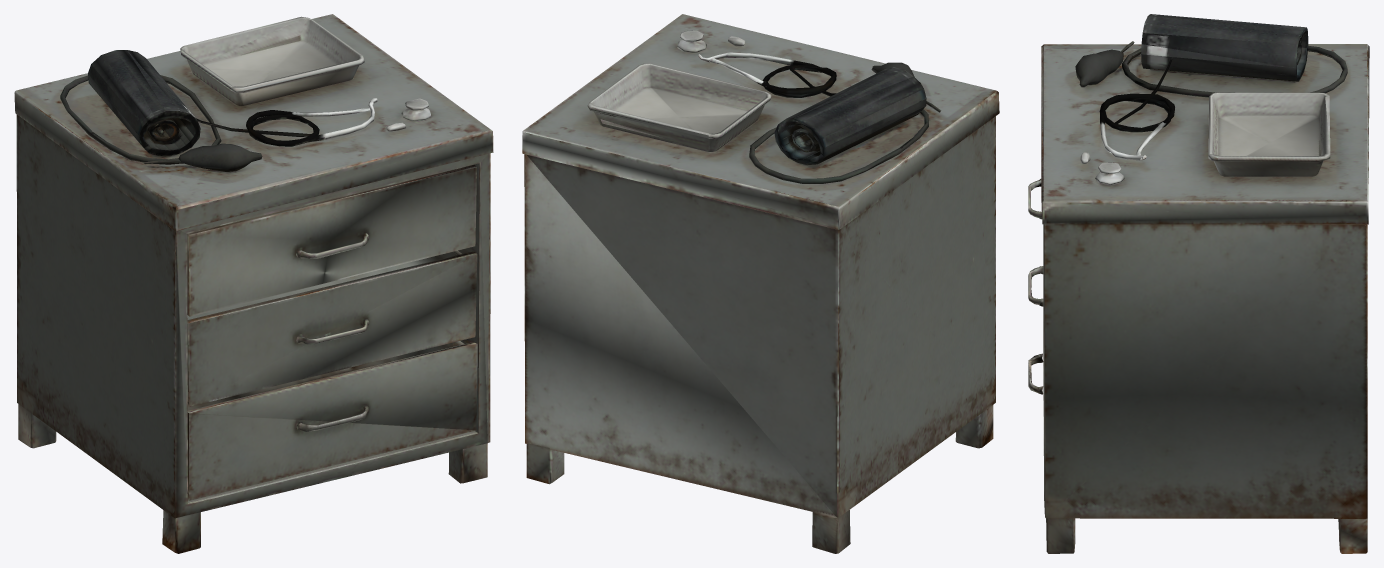
Rendered from MedCart.fbx.
The picture shows the model from 3 angles, left to right: view 1: azimuth 30°, elevation 25°; view 2: azimuth 150°, elevation 25°; view 3: azimuth 270°, elevation 25°; orthographic projection.
Visible parts, largest first — view 1: mesh_node; view 2: mesh_node; view 3: mesh_node.
Boxes of the visible parts, box(x1,y1,x2,y2) form: mesh_node: box(14, 14, 493, 553); mesh_node: box(522, 14, 999, 553); mesh_node: box(1028, 14, 1369, 553).
Size of the model in its own units: 58.9 by 70 by 53.7.
Materials: 1 (1 with a texture image).
